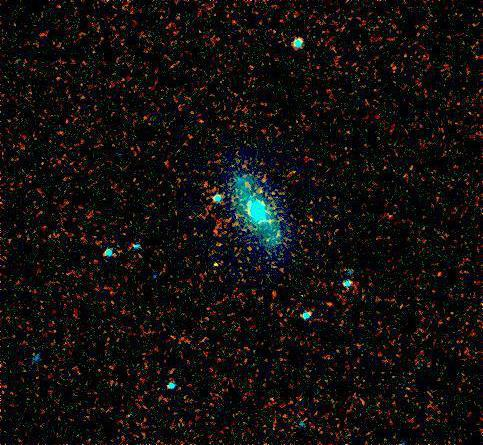star: (202, 248, 232, 278)
